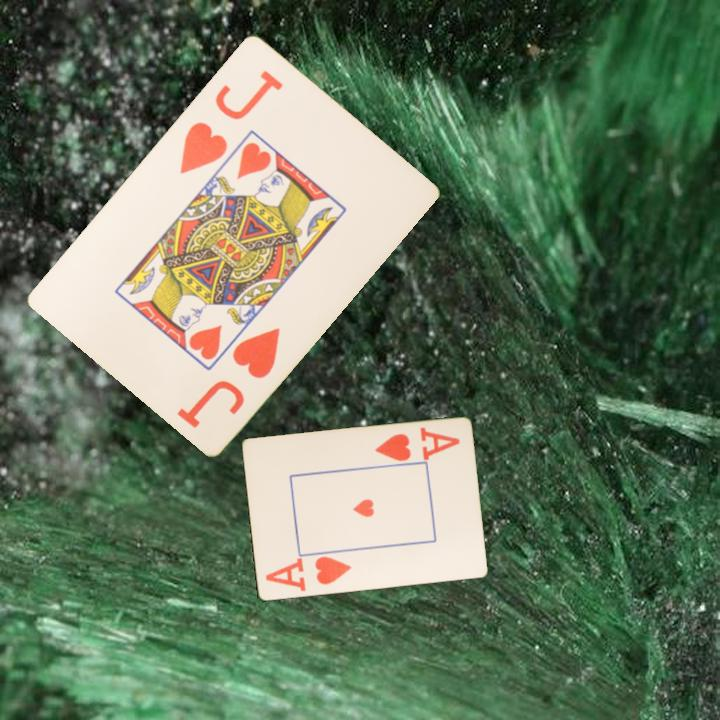Ah: (261, 553, 354, 595), (371, 424, 462, 464)
Jh: (175, 65, 286, 177), (228, 323, 284, 381)
